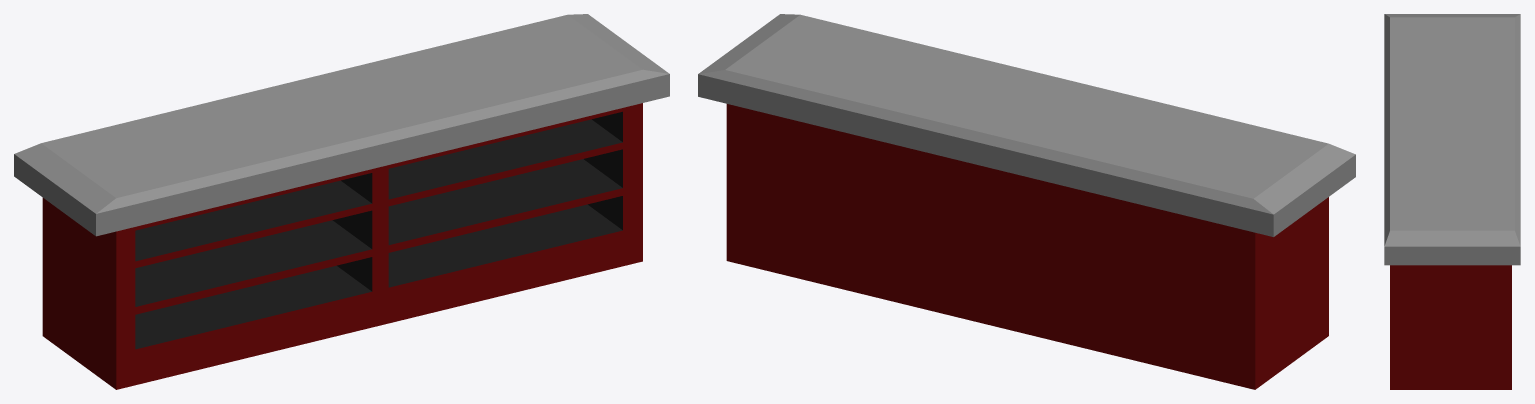
The model's file is 3DMODELS_Props_SuburbianProps_Counter_01.fbx.
The picture shows the model from 3 angles, left to right: view 1: azimuth 30°, elevation 25°; view 2: azimuth 150°, elevation 25°; view 3: azimuth 270°, elevation 25°; orthographic projection. The views are drawn at different scales.
Parts seen in each view (by area): view 1: pCube1; view 2: pCube1; view 3: pCube1.
Part boxes in pixels (box(x1,y1,x2,y2)): pCube1: box(14, 14, 669, 389); pCube1: box(698, 14, 1355, 389); pCube1: box(1384, 14, 1520, 389).
Size of the model in its own units: 4.41 by 1.41 by 1.09.
